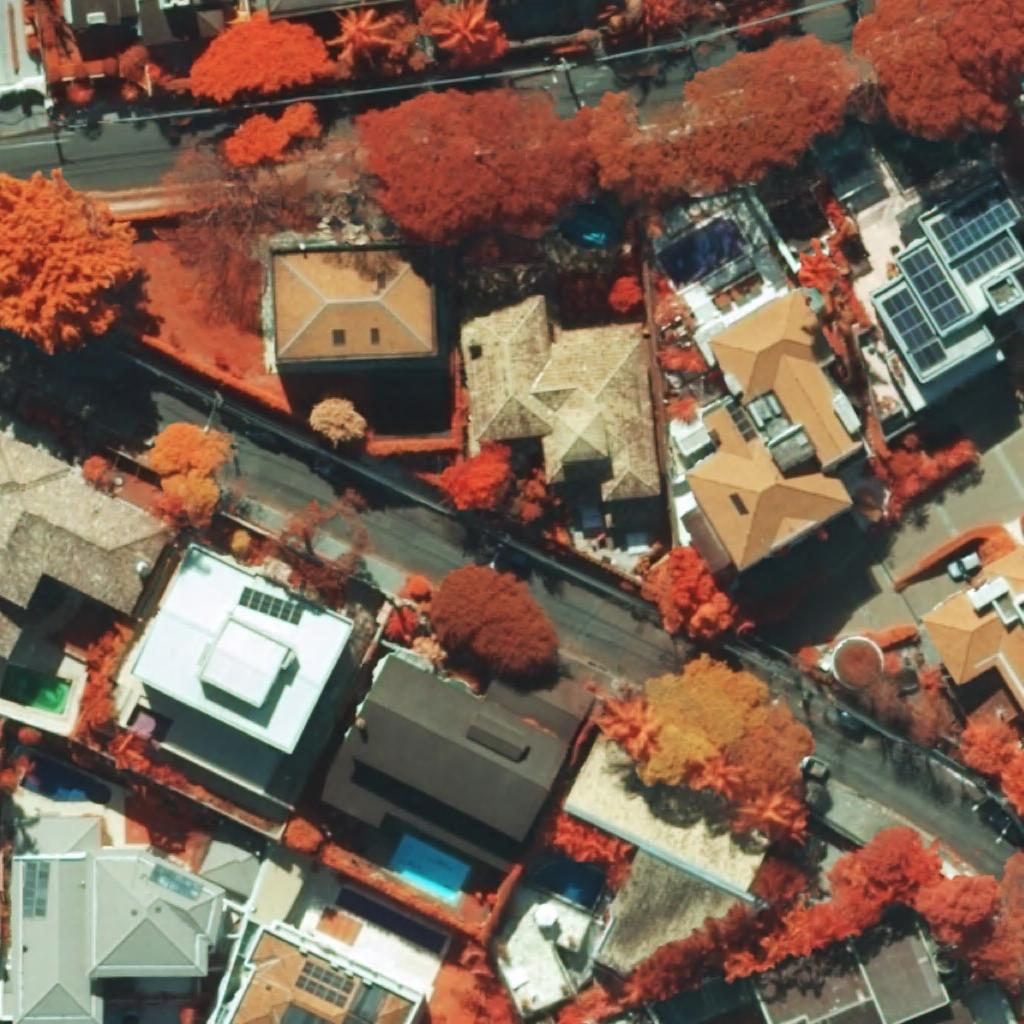pool: (656, 216, 743, 292), (386, 833, 470, 903), (20, 753, 111, 805), (559, 194, 631, 250), (530, 856, 606, 909), (0, 663, 73, 715)
